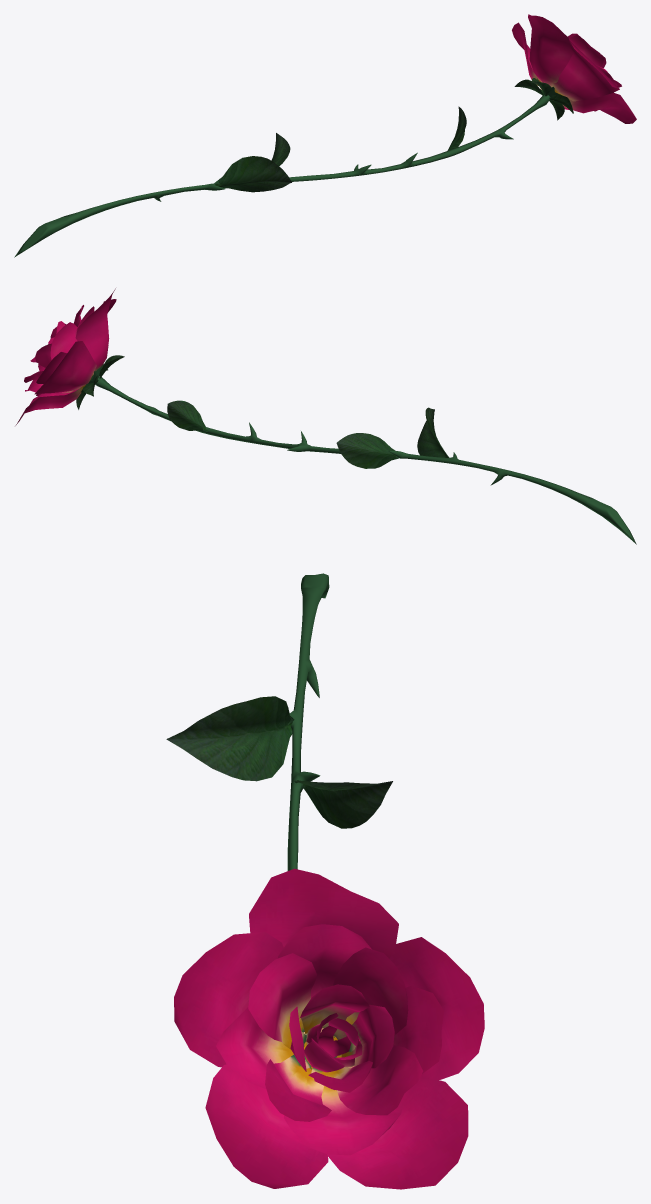
The model's file is flower_03.DAE.
The picture shows the model from 3 angles, top to bottom: view 1: azimuth 30°, elevation 25°; view 2: azimuth 150°, elevation 25°; view 3: azimuth 270°, elevation 25°; orthographic projection. The views are drawn at different scales.
Visible parts, largest first — view 1: QuadPatch08_PIVOT, Cylinder01, QuadPatch01_PIVOT, QuadPatch11_PIVOT; view 2: QuadPatch08_PIVOT, Cylinder01, QuadPatch01_PIVOT, QuadPatch11_PIVOT; view 3: QuadPatch08_PIVOT, QuadPatch01_PIVOT, Cylinder01.
Part boxes in pixels (box(x1,y1,x2,y2)): QuadPatch08_PIVOT: box(512, 14, 636, 123); Cylinder01: box(14, 95, 550, 257); QuadPatch01_PIVOT: box(214, 106, 466, 192); QuadPatch11_PIVOT: box(514, 78, 573, 120); QuadPatch08_PIVOT: box(15, 288, 116, 425); Cylinder01: box(95, 376, 636, 544); QuadPatch01_PIVOT: box(167, 400, 449, 468); QuadPatch11_PIVOT: box(76, 355, 124, 409); QuadPatch08_PIVOT: box(174, 868, 484, 1189); QuadPatch01_PIVOT: box(166, 696, 392, 828); Cylinder01: box(287, 573, 329, 870).
Bounding box in the file's own units: 290 × 66.56 × 58.65.
Materials: 1 (1 with a texture image).
